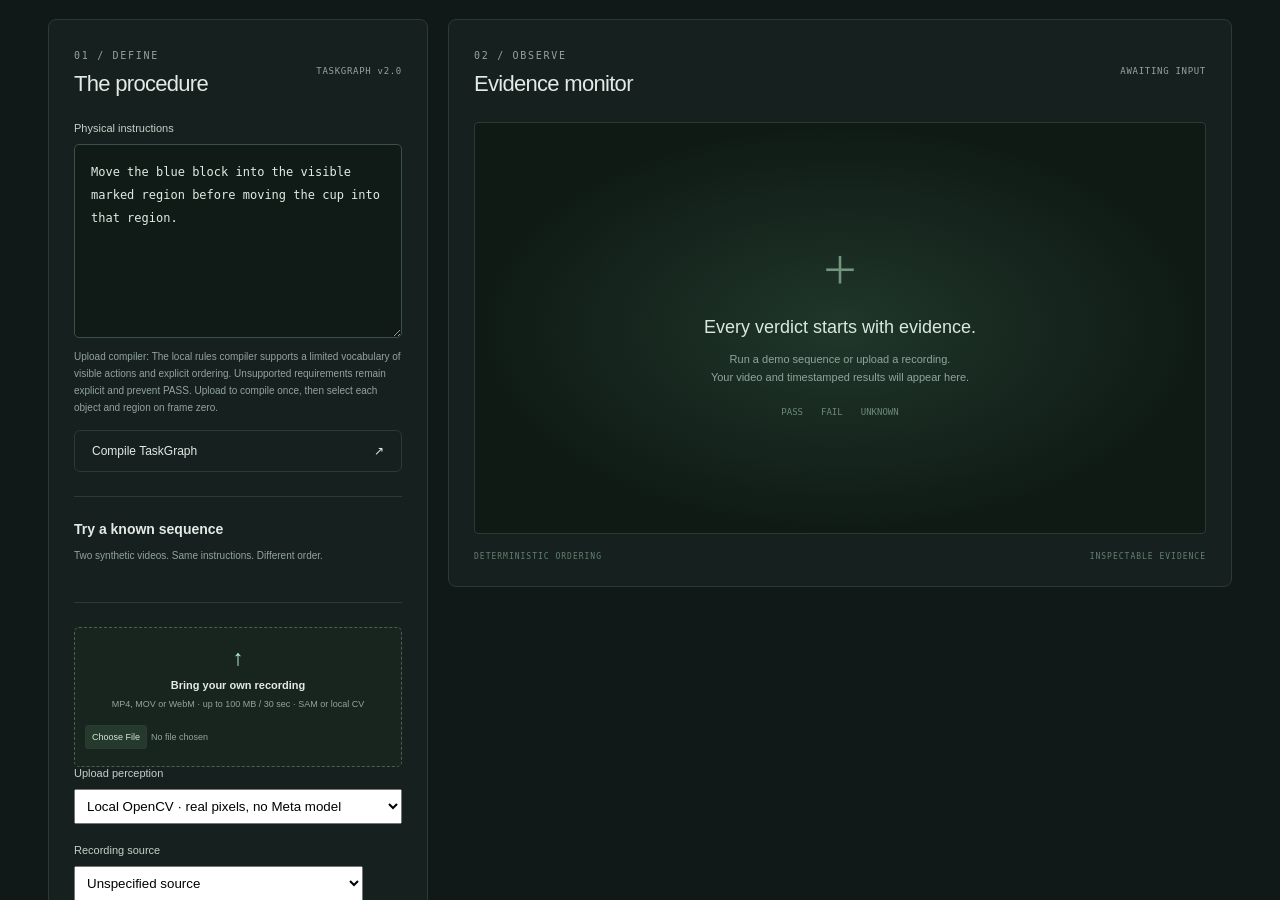
Test: preserves legacy graphs without inventing edges between adjacent steps
(page scrolled)
Step 1. Click the button "Compile TaskGraph ↗" → (145, 451), box [74,430,402,472]
(page scrolled)
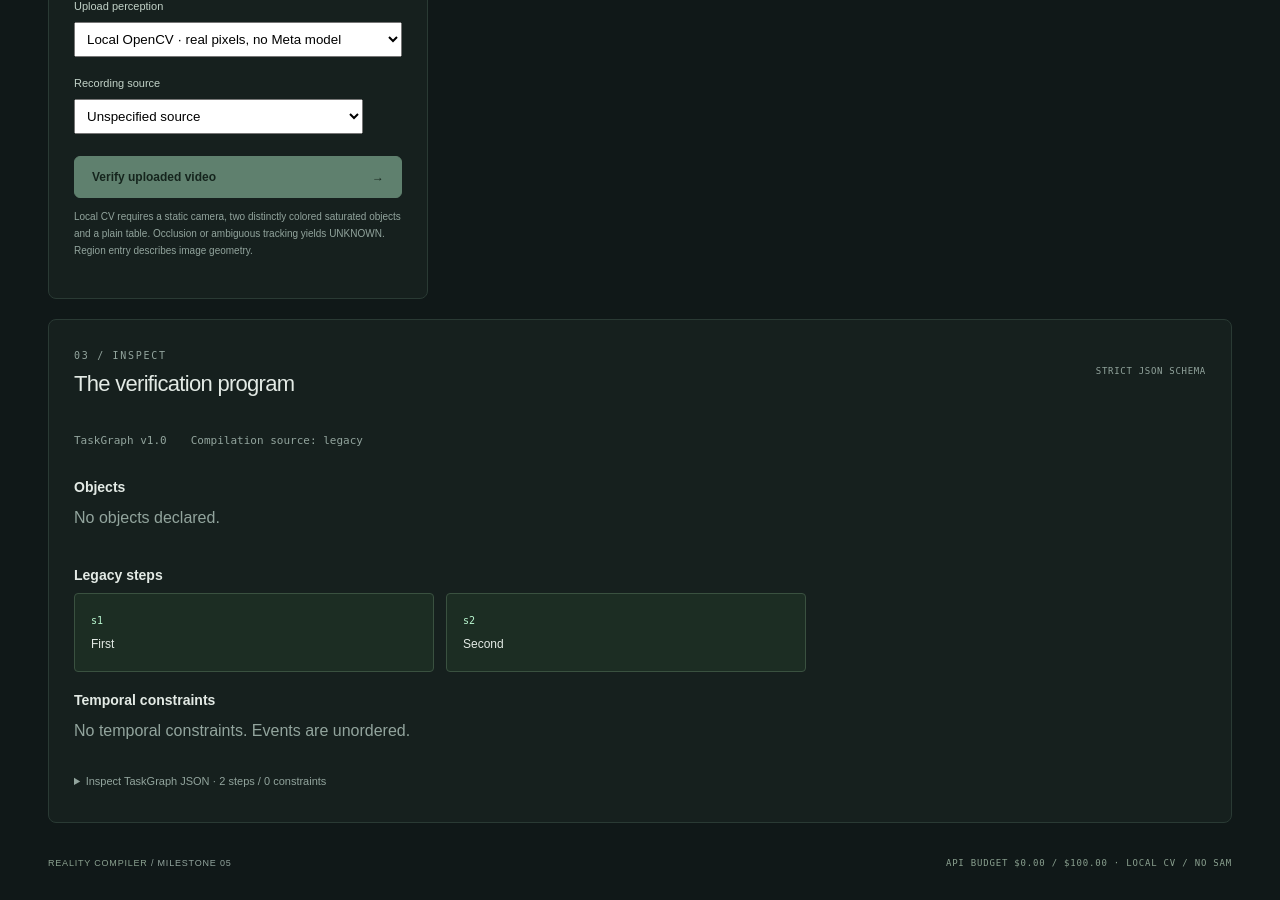
Check: the text "First" is shown, box [91,637,114,651]
Check: the text "No temporal constraints. Events are unordered." is shown, box [74,722,410,739]
